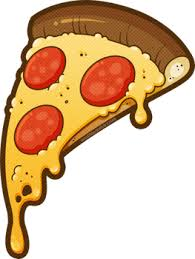pizza: (3, 1, 187, 196)
